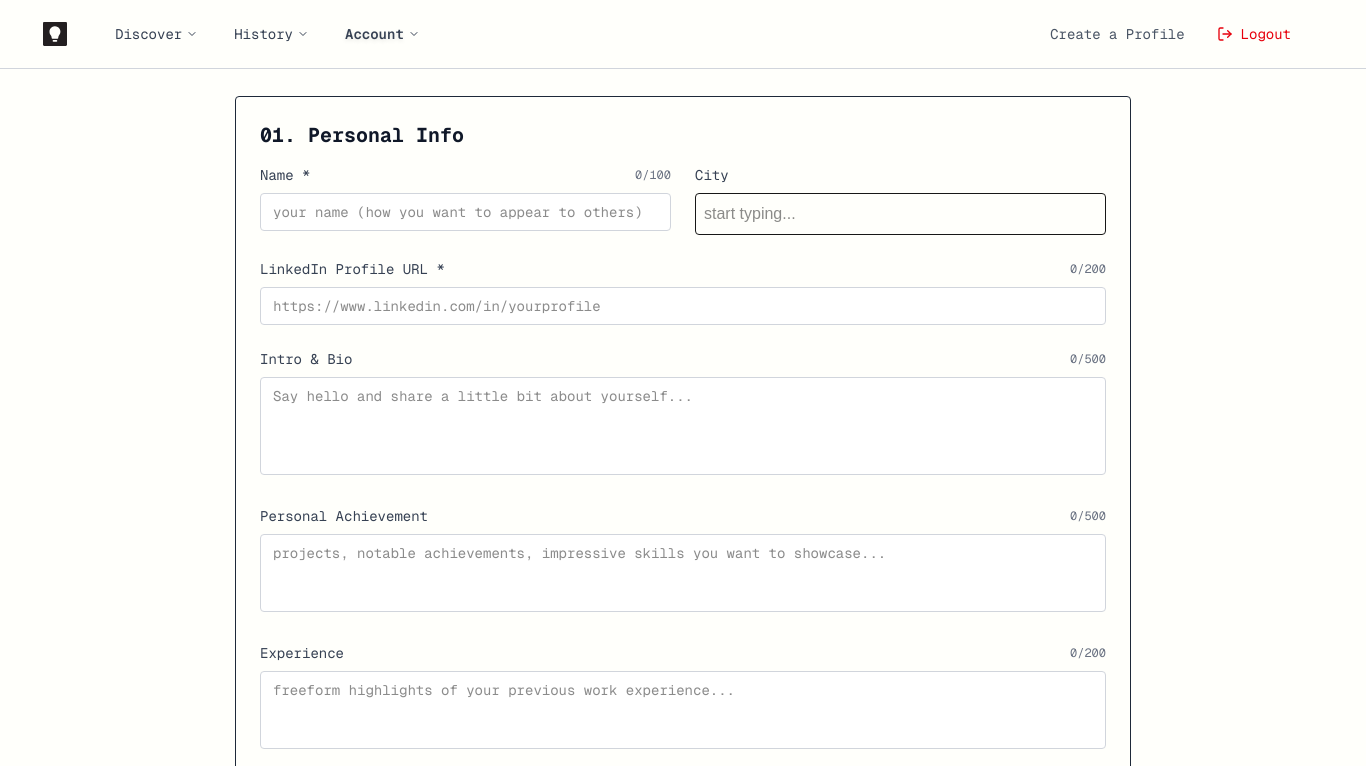
Test case: ProfilePage Integration Tests › should enable publish button when all required fields are filled
// Fill in required fields
Type "Jane Smith" into the field with placeholder "your name (how you want to appear to others)" at (466, 212), box top-left (260, 193), bottom-right (671, 231)
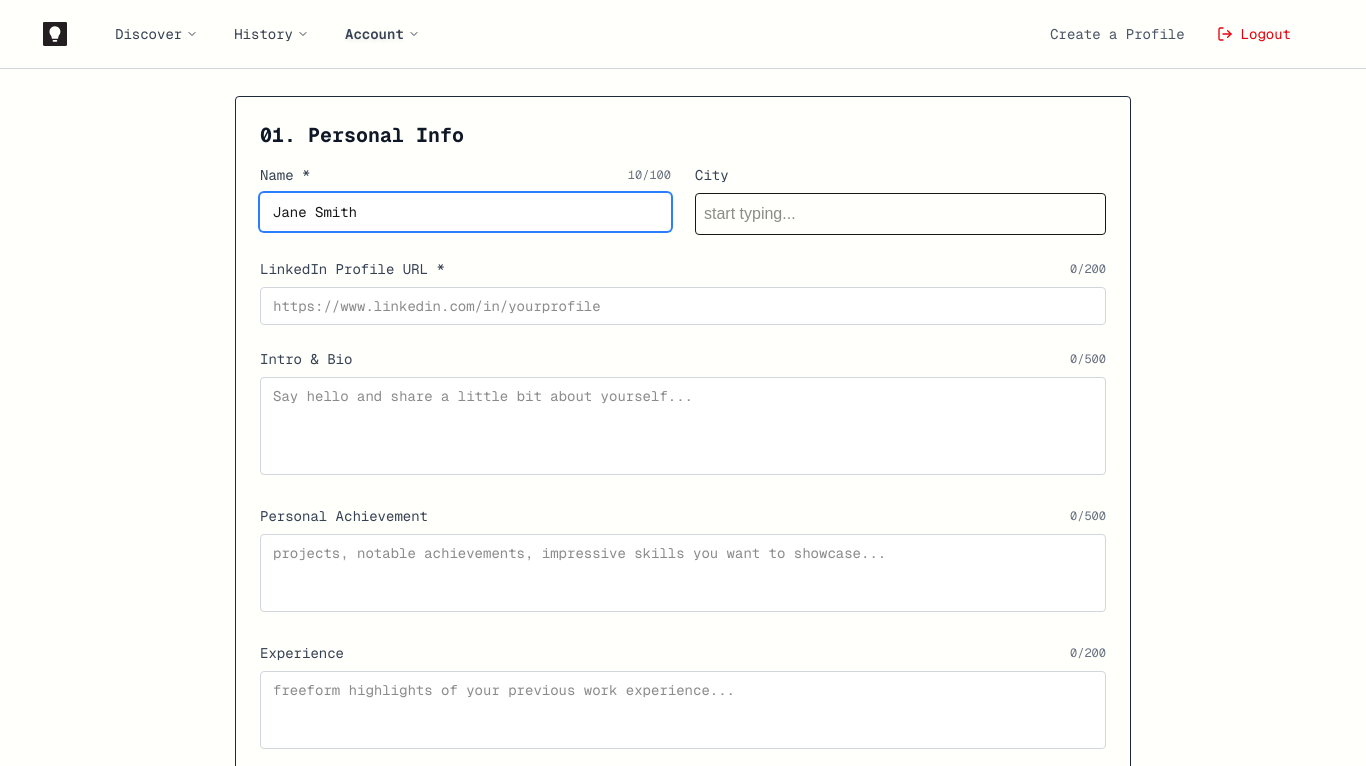
Type "https://www.linkedin.com/in/janesmith" into the field with placeholder "https://www.linkedin.com/in/yourprofile" at (683, 306), box top-left (260, 287), bottom-right (1106, 325)
(page scrolled)
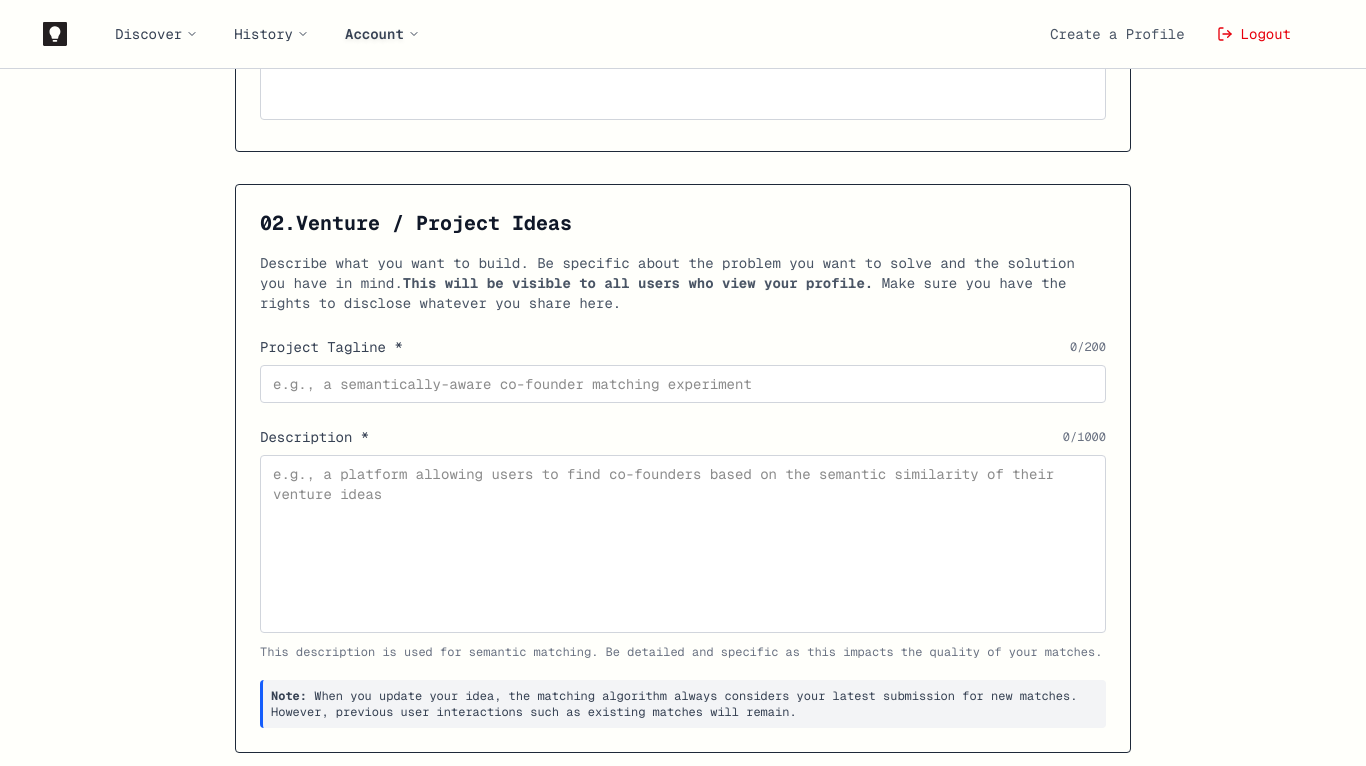
Type "DevTools Pro" into the field with placeholder "e.g., a semantically-aware co-founder matching experiment" at (683, 384), box top-left (260, 365), bottom-right (1106, 403)
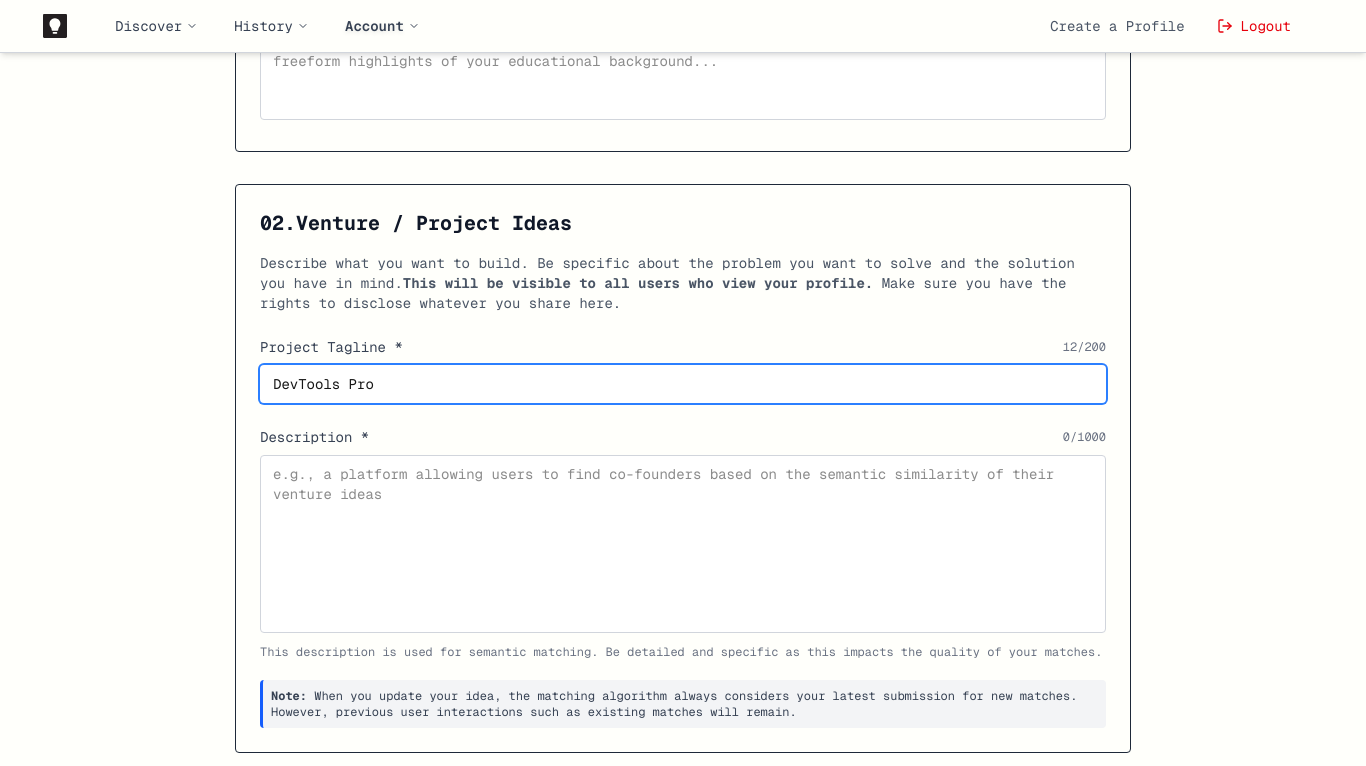
Type "A toolkit for developers" into the text box with placeholder "e.g., a platform allowing users to find co-founders based on the semantic similarity of their venture ideas" at (683, 544), box top-left (260, 455), bottom-right (1106, 633)
(page scrolled)
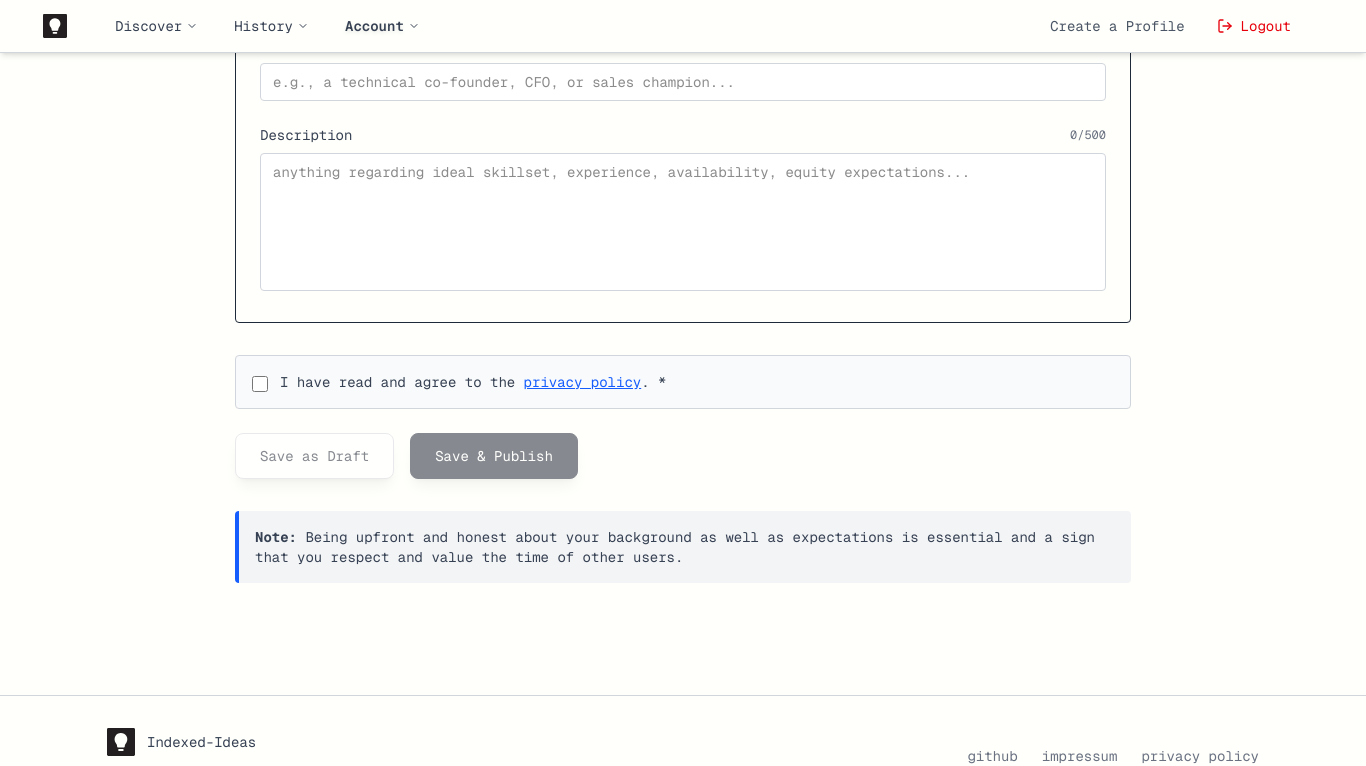
Click the checkbox labelled "I have read and agree to the privacy policy . *" at (260, 384), box top-left (252, 376), bottom-right (268, 392)
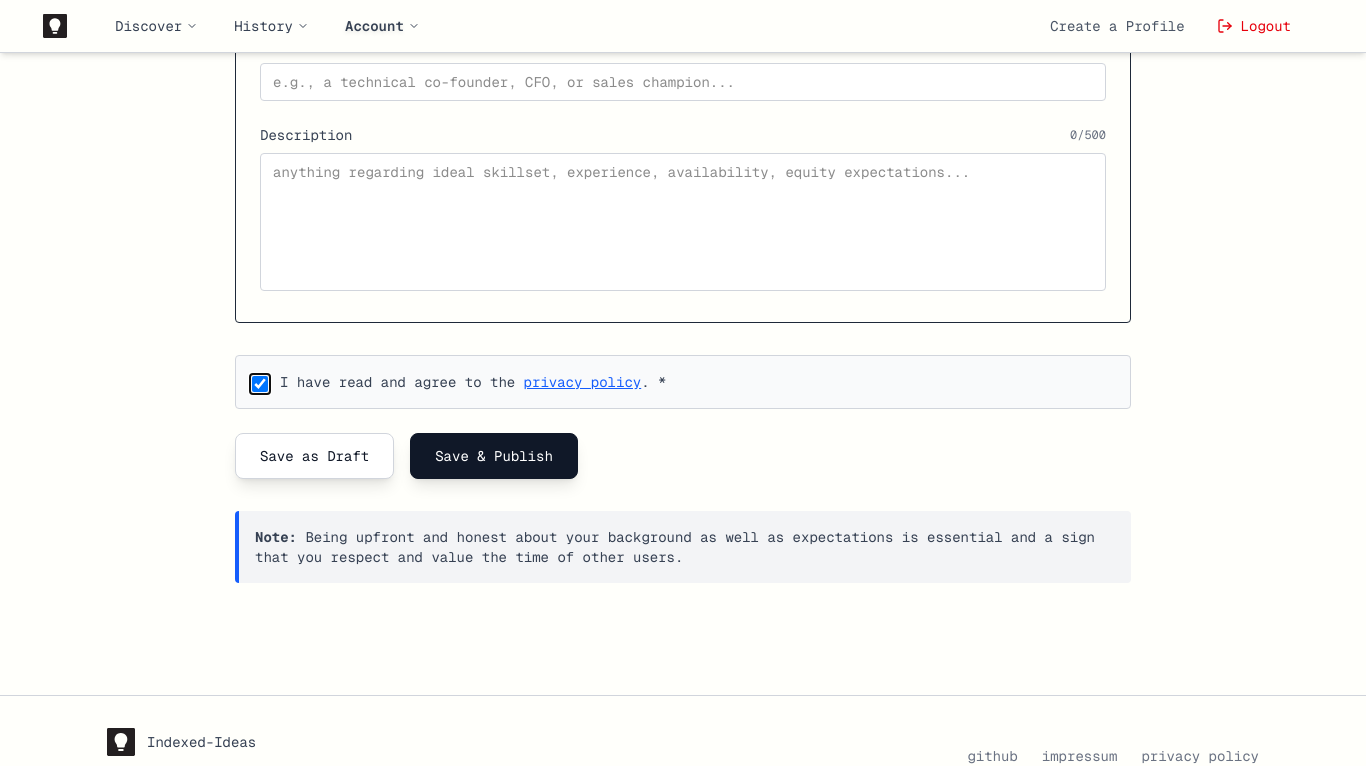
Now the button "Save & Publish" is enabled, box top-left (410, 433), bottom-right (578, 479)
